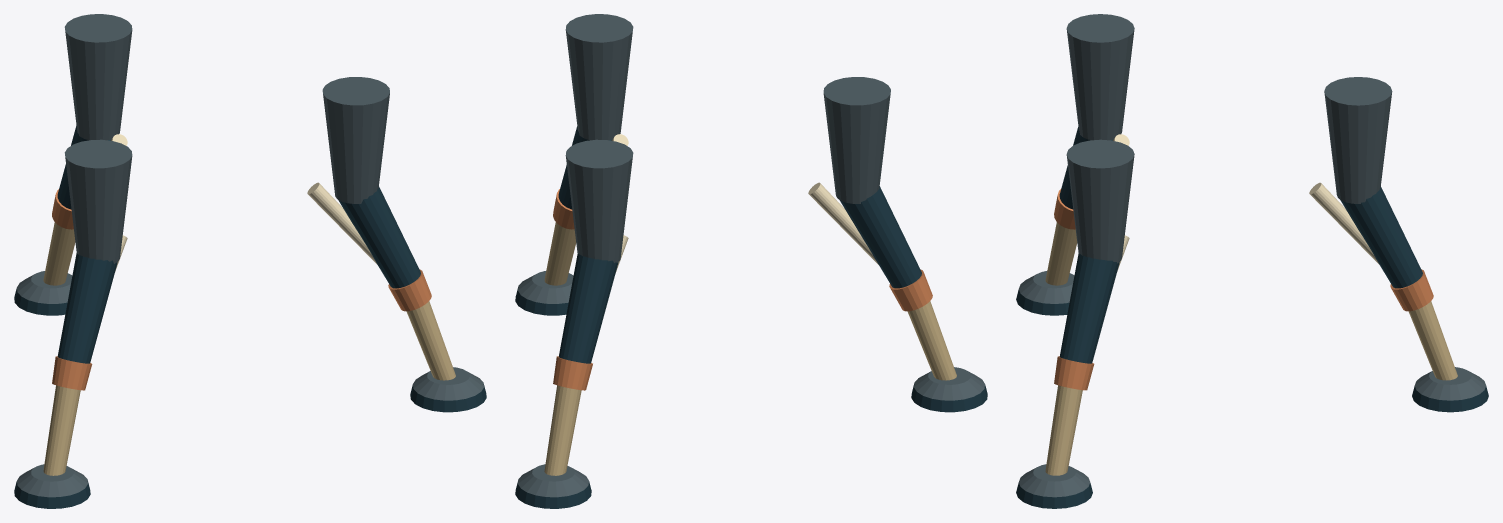
The model's file is landing-gear.glb.
The picture shows the model from 3 angles, left to right: view 1: azimuth 30°, elevation 25°; view 2: azimuth 150°, elevation 25°; view 3: azimuth 270°, elevation 25°; orthographic projection.
Parts seen in each view (by area): view 1: LandingGear; view 2: LandingGear; view 3: LandingGear.
Boxes of the visible parts, left/top/right/bottom form: LandingGear: left=14, top=14, right=486, bottom=508; LandingGear: left=515, top=14, right=987, bottom=508; LandingGear: left=1016, top=14, right=1488, bottom=508.
Bounding box in the file's own units: 5.97 × 3.76 × 5.29.
